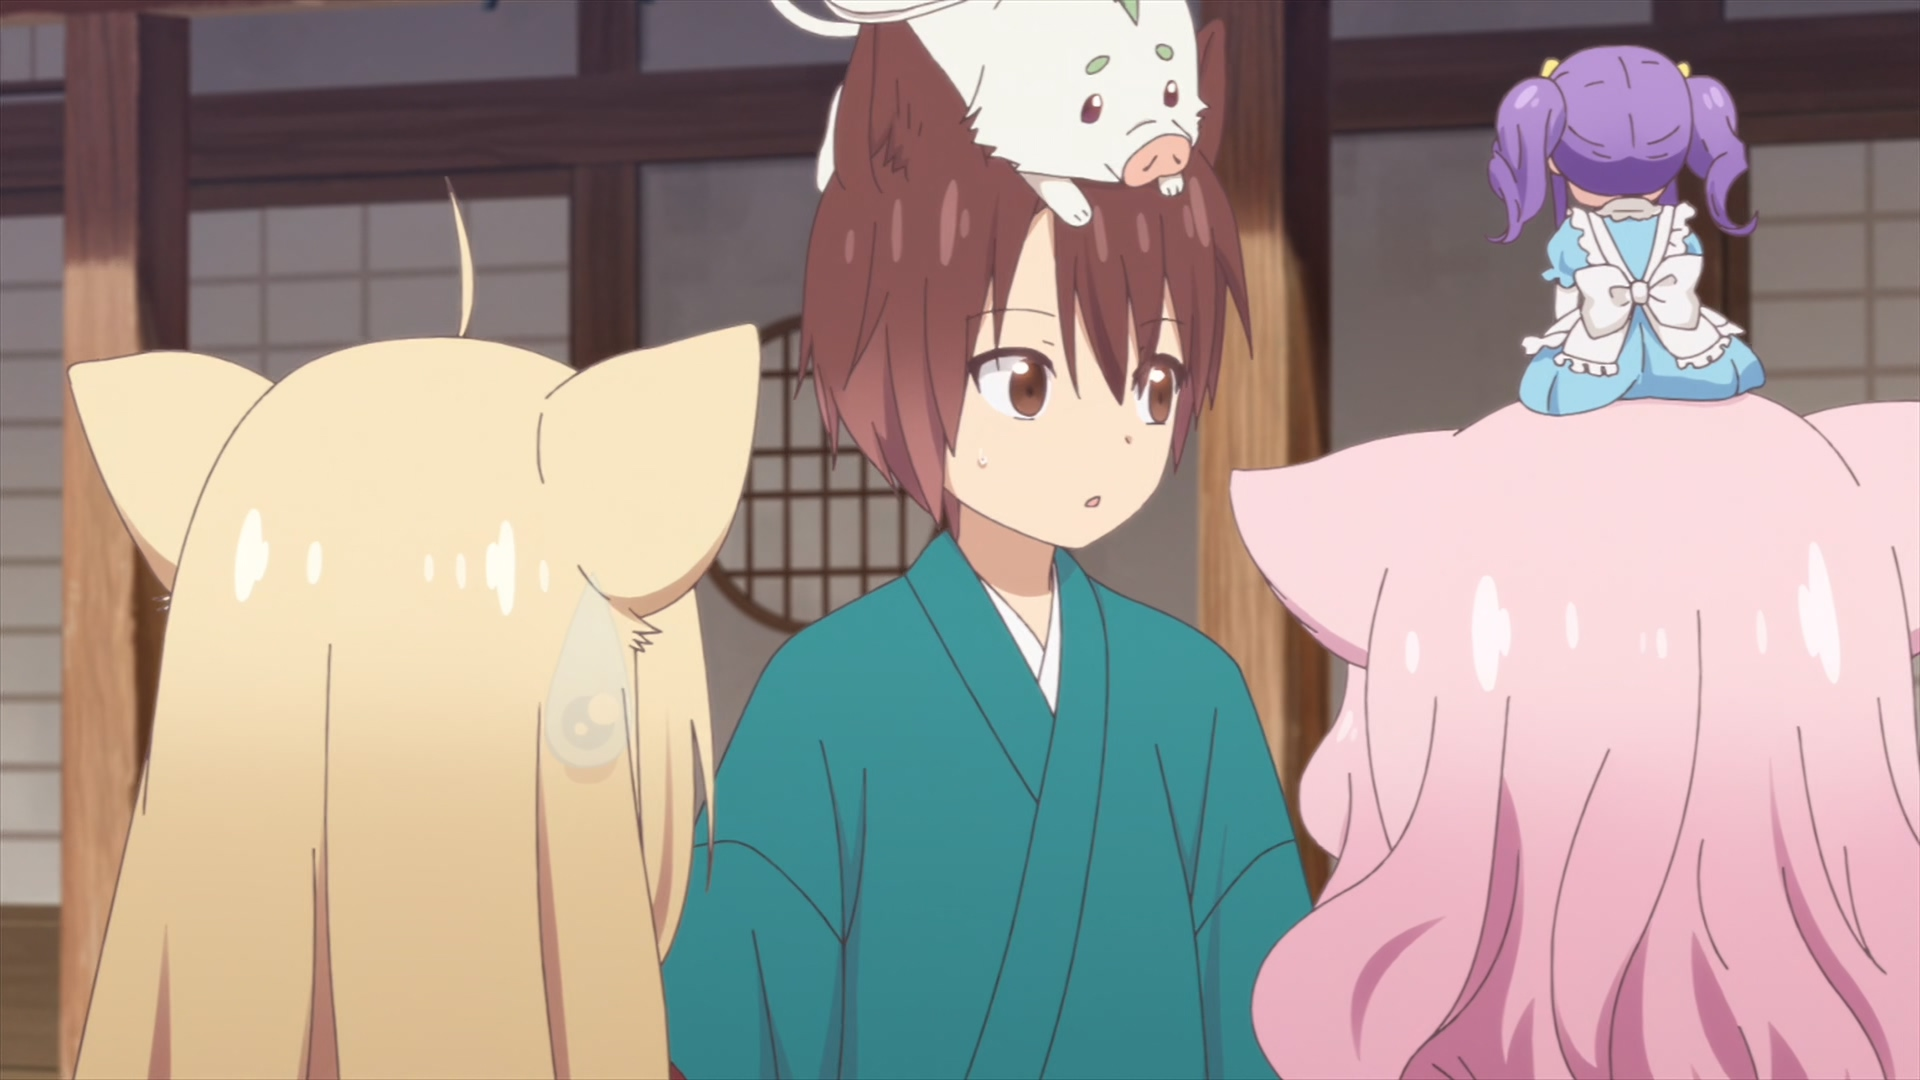枣: (659, 13, 1313, 1080)
柚: (69, 175, 764, 1080)
瓜之介: (770, 1, 1211, 225)
莲: (1229, 393, 1920, 1080)
阿菊: (1486, 44, 1767, 415)
